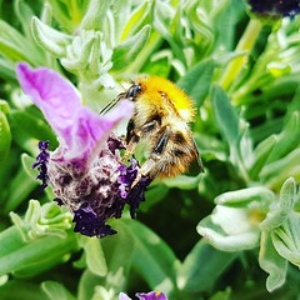bee: (135, 78, 198, 182)
